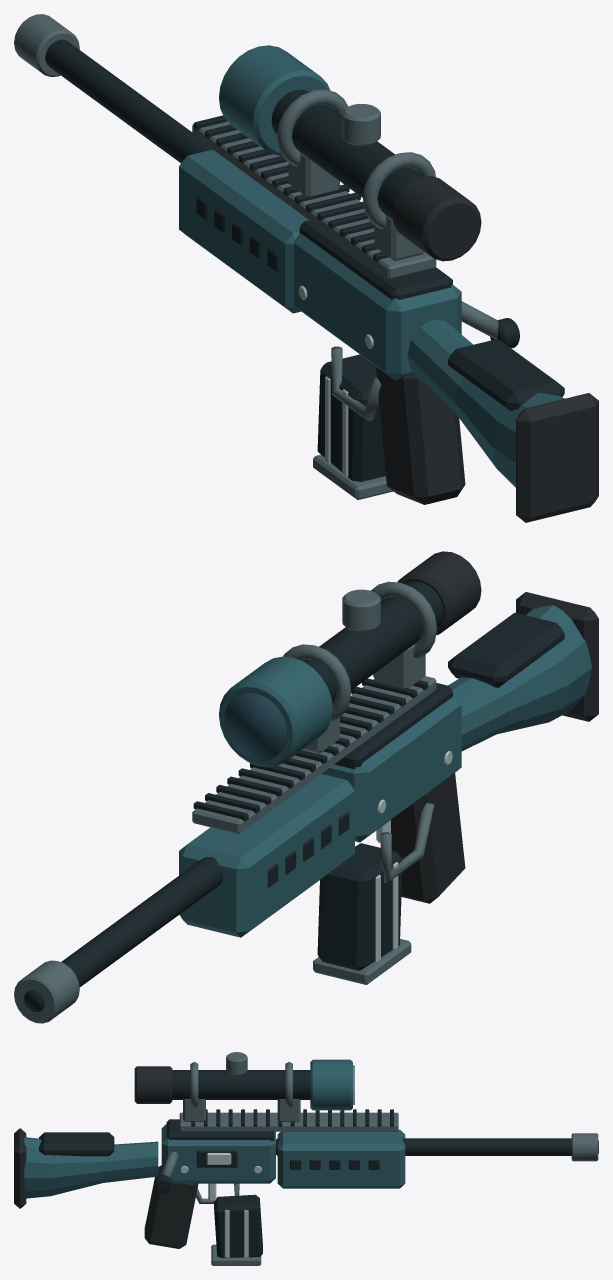
The model's file is longwatch-sniper.glb.
The picture shows the model from 3 angles, top to bottom: view 1: azimuth 30°, elevation 25°; view 2: azimuth 150°, elevation 25°; view 3: azimuth 270°, elevation 25°; orthographic projection. The views are drawn at different scales.
Parts seen in each view (by area): view 1: Vented fore-end.001, Beveled receiver.002, Rubber butt pad.002, Textured pistol grip.002, Sculpted shoulder stock.002, Objective housing, Scope main tube, Barrel.002, Eyepiece, Removable magazine.001, Optics rail.001, Cheek rest.002 (+10 smaller); view 2: Vented fore-end.001, Sculpted shoulder stock.002, Beveled receiver.002, Removable magazine.001, Objective housing, Textured pistol grip.002, Barrel.002, Scope main tube, Optics rail.001, Cheek rest.002, Coated objective lens, Eyepiece (+9 smaller); view 3: Vented fore-end.001, Sculpted shoulder stock.002, Beveled receiver.002, Scope main tube, Optics rail.001, Barrel.002, Textured pistol grip.002, Removable magazine.001, Objective housing, Cheek rest.002, Eyepiece, Upper receiver spine.002 (+10 smaller).
Boxes of the visible parts, box(x1,y1,x2,y2) form: Vented fore-end.001: box(179, 149, 308, 313); Beveled receiver.002: box(294, 233, 461, 380); Rubber butt pad.002: box(516, 393, 598, 522); Textured pistol grip.002: box(376, 367, 465, 504); Sculpted shoulder stock.002: box(407, 320, 564, 487); Objective housing: box(219, 45, 330, 155); Scope main tube: box(271, 89, 424, 219); Barrel.002: box(45, 39, 212, 162); Eyepiece: box(392, 176, 481, 261); Removable magazine.001: box(317, 354, 385, 481); Optics rail.001: box(192, 121, 436, 278); Cheek rest.002: box(448, 339, 564, 410); Vented fore-end.001: box(179, 774, 354, 937); Sculpted shoulder stock.002: box(448, 605, 591, 751); Beveled receiver.002: box(322, 693, 461, 842); Removable magazine.001: box(317, 843, 402, 970); Objective housing: box(219, 656, 332, 767); Textured pistol grip.002: box(391, 773, 465, 903); Barrel.002: box(61, 773, 327, 987); Scope main tube: box(301, 581, 443, 702); Optics rail.001: box(192, 676, 436, 834); Cheek rest.002: box(448, 612, 564, 687); Coated objective lens: box(224, 692, 287, 760); Eyepiece: box(397, 551, 481, 635); Vented fore-end.001: box(277, 1129, 405, 1188); Sculpted shoulder stock.002: box(24, 1137, 158, 1198); Beveled receiver.002: box(161, 1124, 275, 1183); Scope main tube: box(172, 1070, 310, 1099); Optics rail.001: box(179, 1112, 398, 1131); Barrel.002: box(276, 1138, 571, 1155); Textured pistol grip.002: box(144, 1165, 198, 1248); Removable magazine.001: box(214, 1194, 262, 1257); Objective housing: box(310, 1059, 352, 1110); Cheek rest.002: box(39, 1132, 114, 1156); Eyepiece: box(134, 1066, 172, 1103); Upper receiver spine.002: box(166, 1119, 274, 1141).
Size of the model in its own units: 0.2485 by 0.686 by 1.79.
